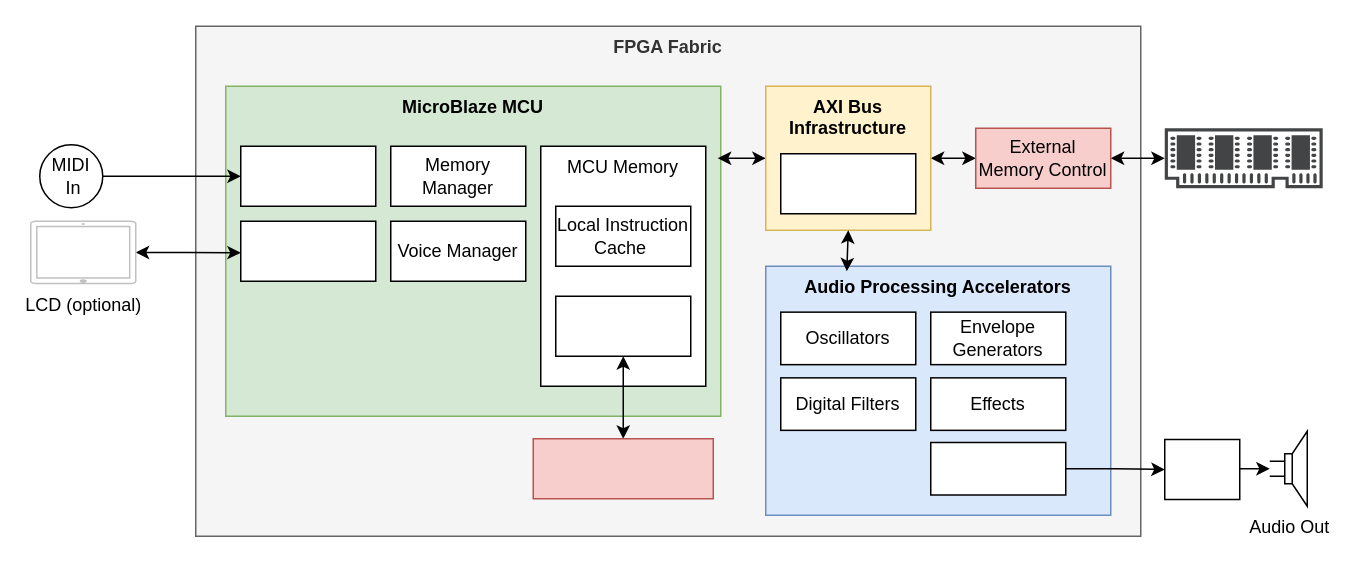
Image size: 1355x564. Some labels were removed from this diagram. The shapes that lost their labels are listed below. From the top down, each one's centre as x and y in pixels, then its label:
point 307,175: MIDI Parser
point 1243,158: SRAM
point 847,183: AXI Interconnect
point 307,250: UI Controller
point 622,325: Local Data Cache
point 622,468: BRAM Memory
point 997,468: I2S
point 1201,469: DAC
